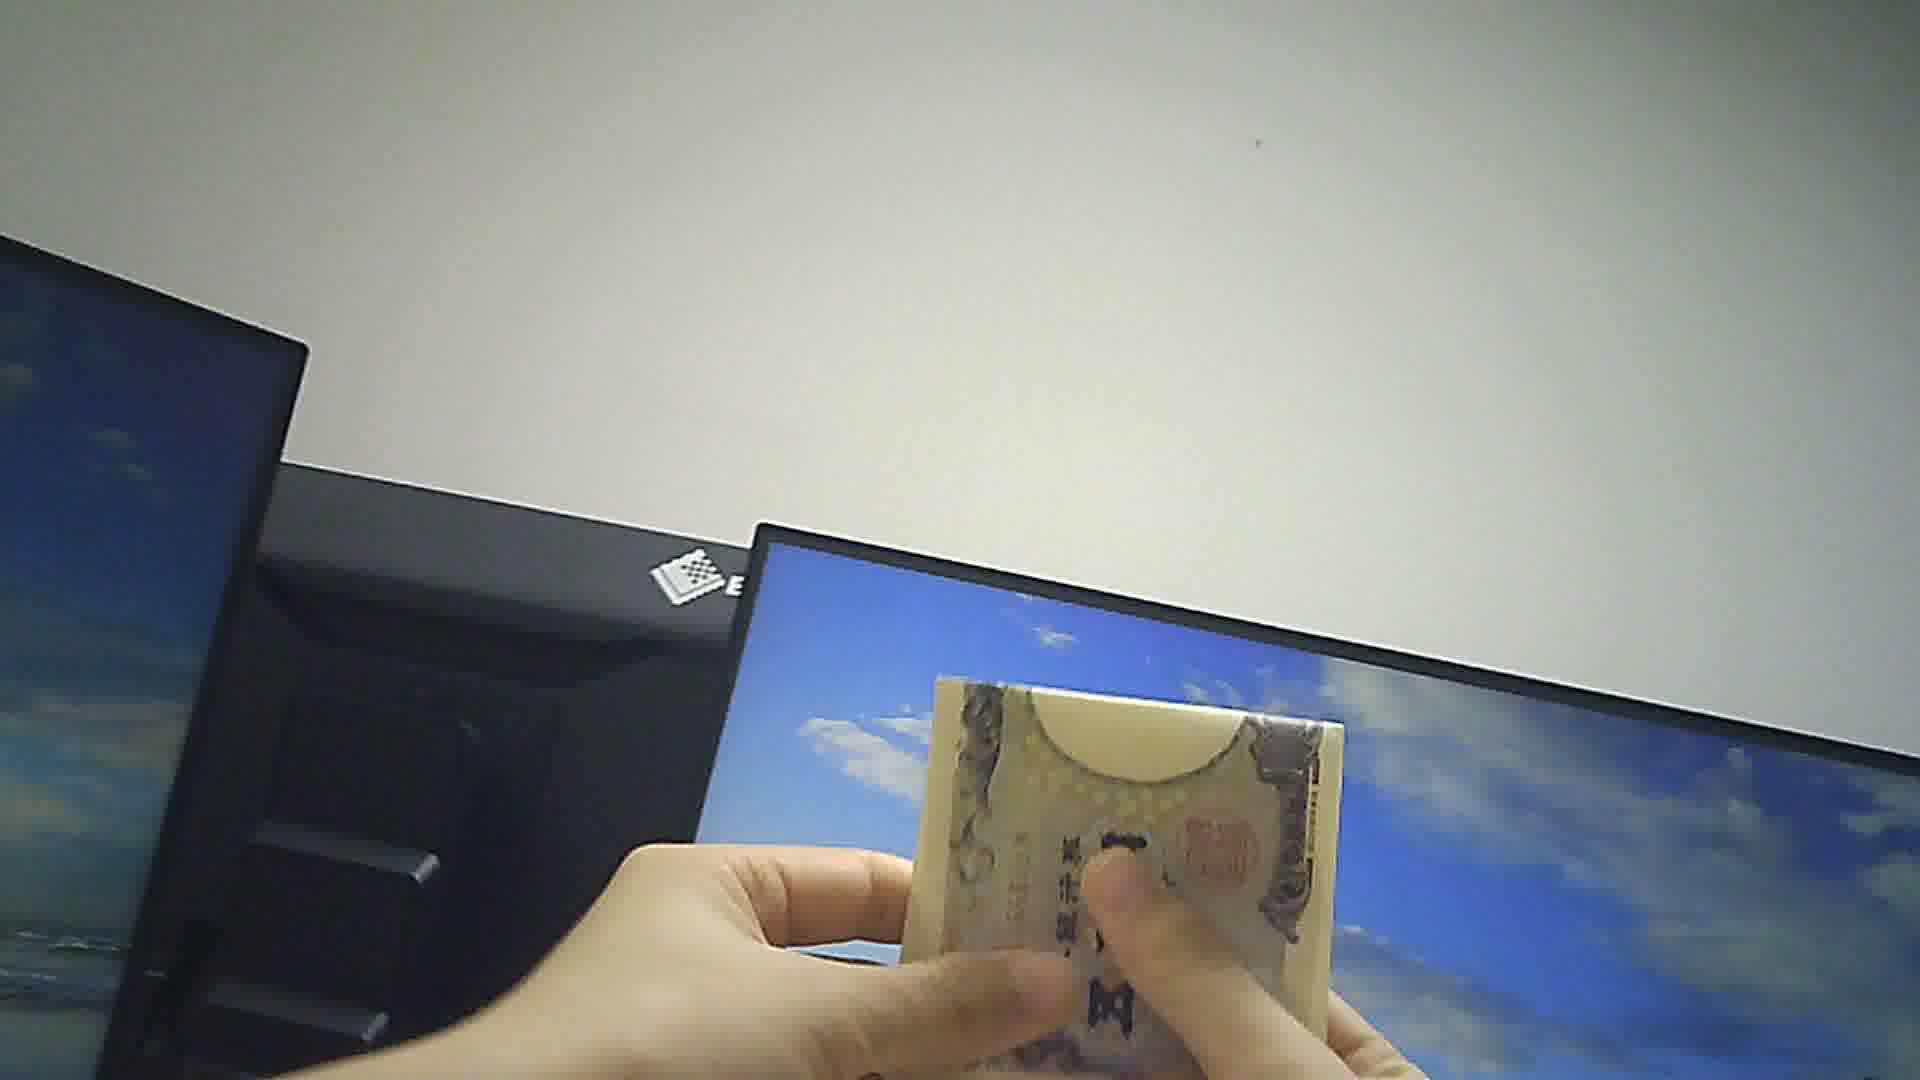5,000 Yen: (903, 651, 1352, 1077)
